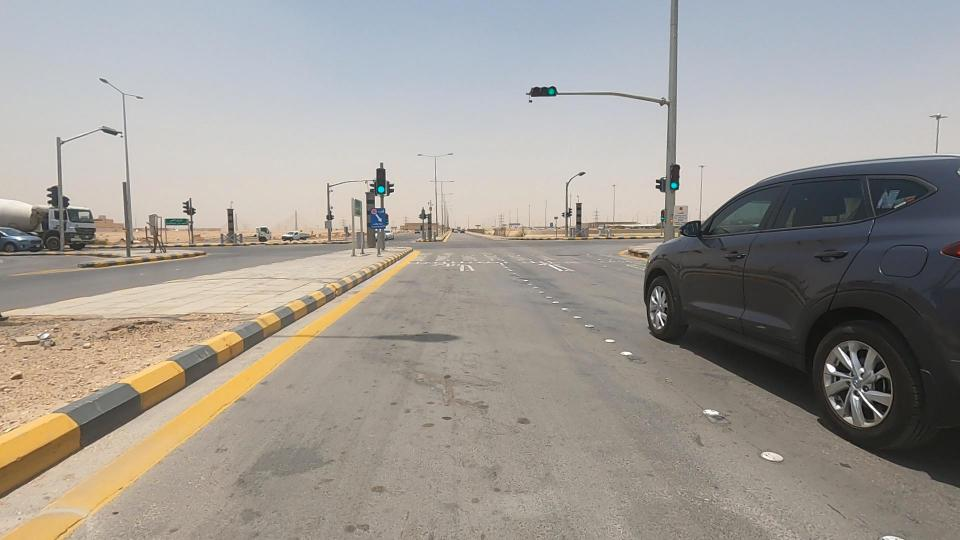CLUTTER_SIDEWALK: (0, 258, 304, 436)
